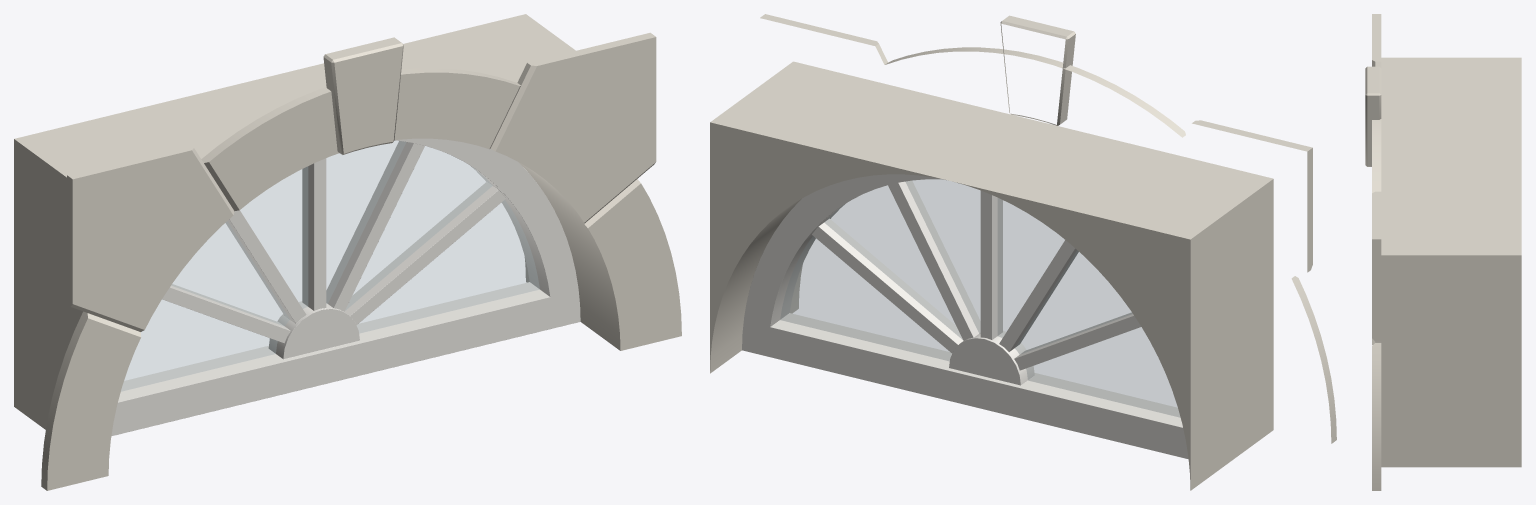
The model's file is fanlight.glb.
3 views of the same model, side by side, from view 1: azimuth 30°, elevation 25°; view 2: azimuth 150°, elevation 25°; view 3: azimuth 270°, elevation 25° (orthographic). The views are drawn at different scales.
Visible parts, largest first — view 1: Fanlight, FanlightGlass; view 2: Fanlight, FanlightGlass; view 3: Fanlight.
Part boxes in pixels (box(x1,y1,x2,y2)): Fanlight: box(14, 14, 681, 490); FanlightGlass: box(121, 140, 539, 391); Fanlight: box(710, 14, 1336, 490); FanlightGlass: box(780, 179, 1179, 417); Fanlight: box(1365, 14, 1521, 490).
Size of the model in its own units: 1.24 by 0.68 by 0.334.
